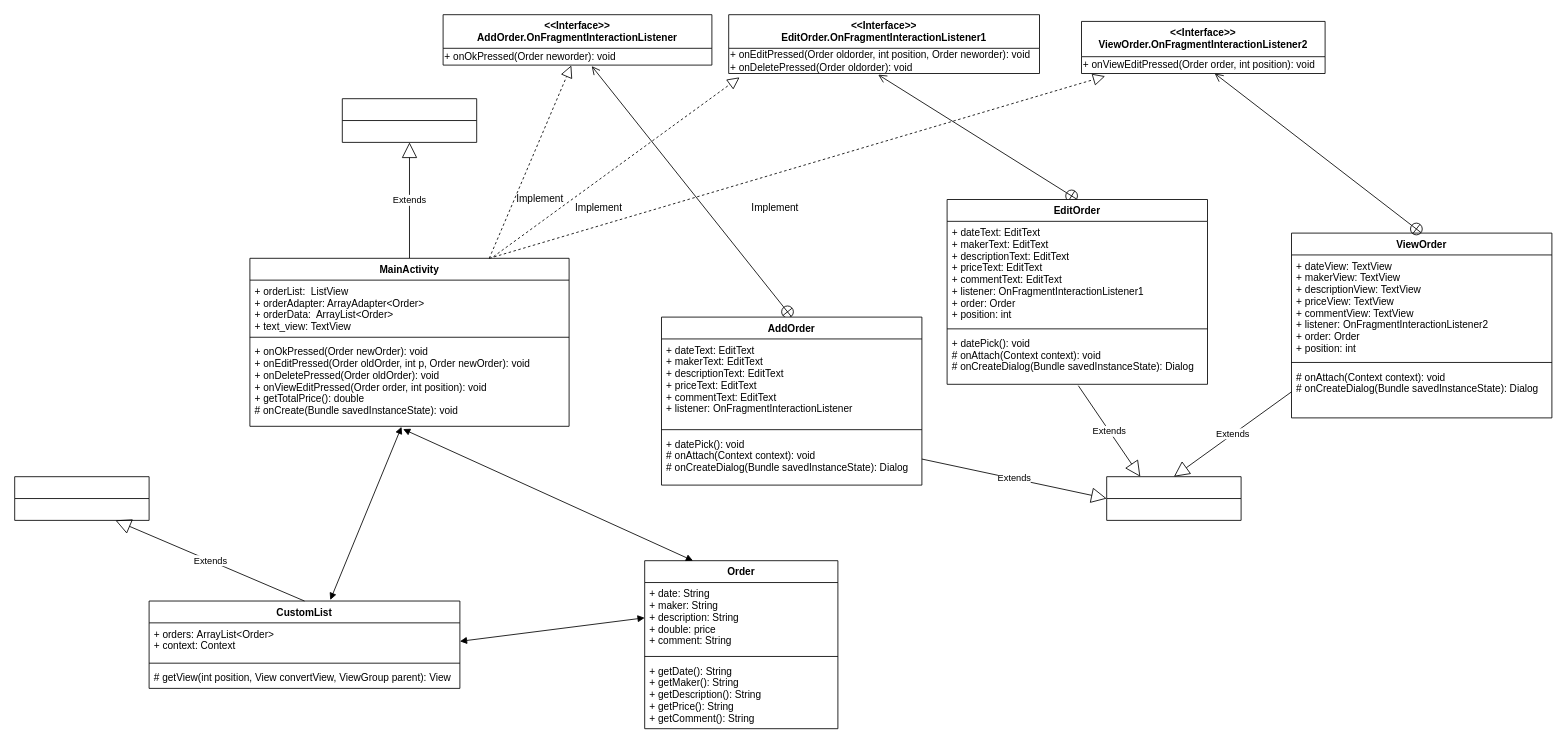
Some shapes in this 1567 by 746 pixel diagram are drawn without their labels. The shapes that lost their labels are listed below. From the top down, each one's centre as x and y in pixels, then its label:
At (409,120): "AppCompatActivity".
At (81,498): "ArrayAdapter".
At (1173,498): "DialogFragment".
